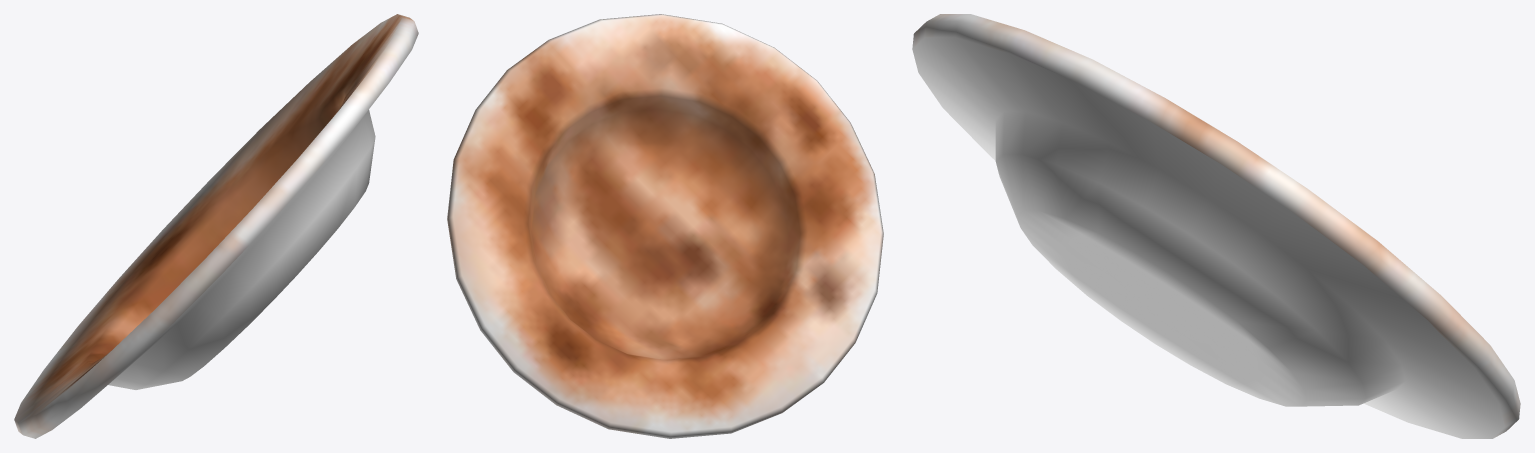
The model's file is Plate_Wash.fbx.
3 views of the same model, side by side, from view 1: azimuth 30°, elevation 25°; view 2: azimuth 150°, elevation 25°; view 3: azimuth 270°, elevation 25° (orthographic). The views are drawn at different scales.
Parts seen in each view (by area): view 1: m_Plate_wash.001; view 2: m_Plate_wash.001; view 3: m_Plate_wash.001.
Part boxes in pixels (box(x1,y1,x2,y2)): m_Plate_wash.001: box(14, 14, 418, 438); m_Plate_wash.001: box(447, 14, 883, 438); m_Plate_wash.001: box(912, 14, 1520, 438).
Size of the model in its own units: 84.71 by 75.33 by 84.3.
